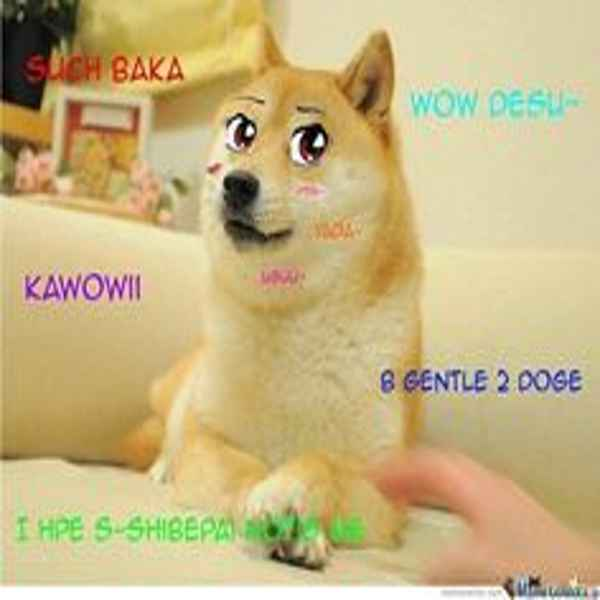doge: (188, 18, 436, 324)
